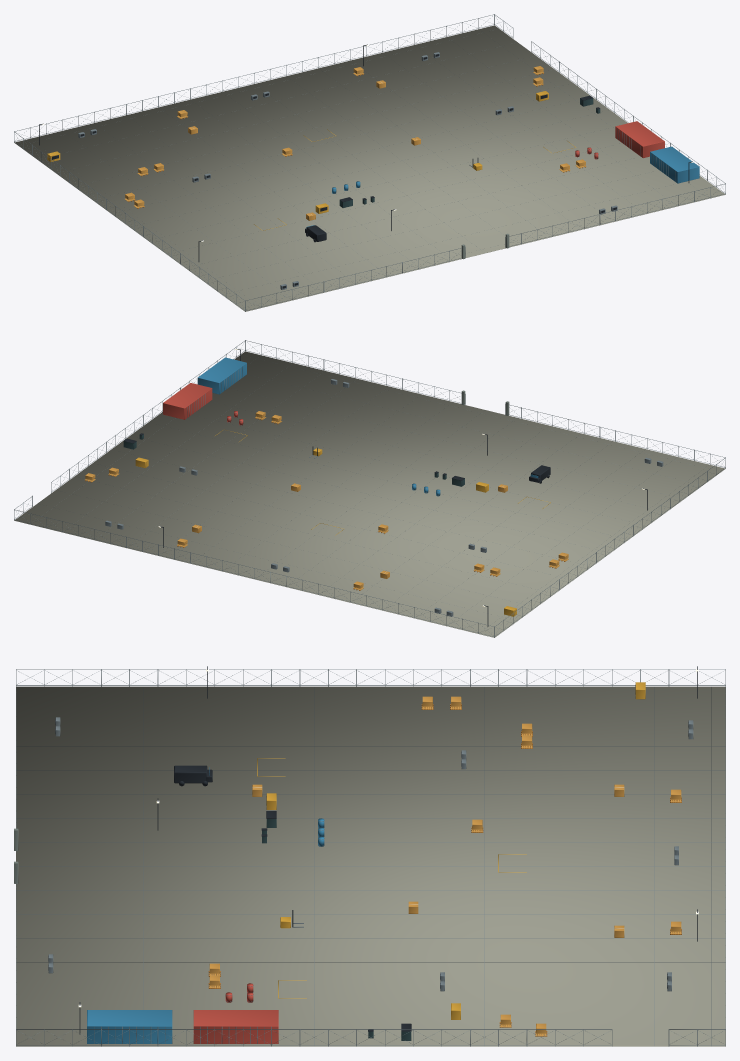
Rendered from yard.glb.
The picture shows the model from 3 angles, top to bottom: view 1: azimuth 30°, elevation 25°; view 2: azimuth 150°, elevation 25°; view 3: azimuth 270°, elevation 25°; orthographic projection. The views are drawn at different scales.
Parts seen in each view (by area): view 1: shell_0_floor, shell_0_metal, shell_0_blue, shell_0_red, shell_0_woodLight, shell_0_dark, shell_0_accent; view 2: shell_0_floor, shell_0_metal, shell_0_red, shell_0_blue, shell_0_woodLight, shell_0_dark, shell_0_accent; view 3: shell_0_floor, shell_0_metal, shell_0_red, shell_0_blue, shell_0_woodLight, shell_0_dark, shell_0_accent.
Boxes of the visible parts, x1=… form: shell_0_floor: x1=14, y1=25, x2=725, y2=311; shell_0_metal: x1=14, y1=14, x2=725, y2=311; shell_0_blue: x1=306, y1=146, x2=699, y2=228; shell_0_red: x1=575, y1=121, x2=664, y2=159; shell_0_woodLight: x1=124, y1=66, x2=586, y2=220; shell_0_dark: x1=39, y1=44, x2=692, y2=288; shell_0_accent: x1=47, y1=91, x2=575, y2=230; shell_0_floor: x1=14, y1=351, x2=725, y2=637; shell_0_metal: x1=14, y1=340, x2=725, y2=637; shell_0_red: x1=163, y1=383, x2=243, y2=425; shell_0_blue: x1=197, y1=357, x2=538, y2=496; shell_0_woodLight: x1=85, y1=411, x2=568, y2=590; shell_0_dark: x1=124, y1=348, x2=647, y2=626; shell_0_accent: x1=135, y1=429, x2=550, y2=616; shell_0_floor: x1=16, y1=686, x2=725, y2=1046; shell_0_metal: x1=16, y1=669, x2=725, y2=1046; shell_0_red: x1=193, y1=983, x2=278, y2=1043; shell_0_blue: x1=87, y1=767, x2=324, y2=1043; shell_0_woodLight: x1=209, y1=696, x2=681, y2=1036; shell_0_dark: x1=48, y1=666, x2=697, y2=1034; shell_0_accent: x1=257, y1=682, x2=645, y2=1019.
Size of the model in its own units: 120 by 5.05 by 100.
